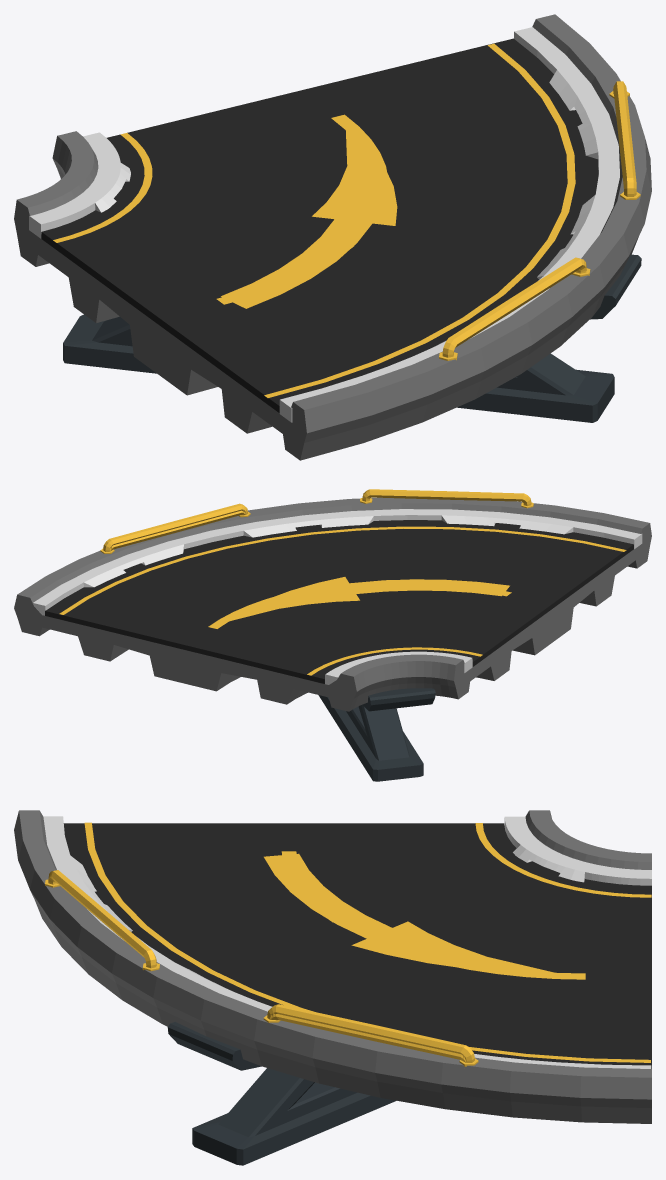
Rendered from C_road.glb.
The picture shows the model from 3 angles, top to bottom: view 1: azimuth 30°, elevation 25°; view 2: azimuth 150°, elevation 25°; view 3: azimuth 270°, elevation 25°; orthographic projection. The views are drawn at different scales.
Parts seen in each view (by area): view 1: zhuanwan, 立方体.001, 立方体.002, 立方体.006, 平面.014, 平面.008, 柱体.003, 平面.007; view 2: zhuanwan, 立方体.001, 立方体.002, 立方体.006, 平面.014, 柱体.003, 平面.008, 平面.007; view 3: zhuanwan, 立方体.001, 立方体.006, 立方体.002, 平面.014, 柱体.003, 平面.008, 平面.007.
Part boxes in pixels (left/top/right/bottom): zhuanwan: left=41, top=38, right=598, bottom=412; 立方体.001: left=14, top=14, right=651, bottom=460; 立方体.002: left=29, top=27, right=619, bottom=422; 立方体.006: left=63, top=254, right=641, bottom=422; 平面.014: left=221, top=129, right=397, bottom=308; 平面.008: left=53, top=43, right=575, bottom=397; 柱体.003: left=439, top=81, right=640, bottom=360; 平面.007: left=216, top=114, right=388, bottom=304; zhuanwan: left=45, top=520, right=633, bottom=683; 立方体.001: left=14, top=497, right=651, bottom=711; 立方体.002: left=33, top=509, right=642, bottom=684; 立方体.006: left=318, top=688, right=435, bottom=781; 平面.014: left=230, top=577, right=509, bottom=620; 柱体.003: left=100, top=489, right=533, bottom=553; 平面.008: left=59, top=526, right=626, bottom=675; 平面.007: left=208, top=580, right=511, bottom=628; zhuanwan: left=63, top=823, right=651, bottom=1068; 立方体.001: left=14, top=810, right=651, bottom=1123; 立方体.006: left=167, top=1022, right=396, bottom=1165; 立方体.002: left=43, top=816, right=651, bottom=1068; 平面.014: left=264, top=853, right=561, bottom=974; 柱体.003: left=45, top=870, right=478, bottom=1066; 平面.008: left=84, top=822, right=651, bottom=1062; 平面.007: left=281, top=851, right=585, bottom=979.
Bounding box in the file's own units: 8.68 × 2.65 × 8.67.
